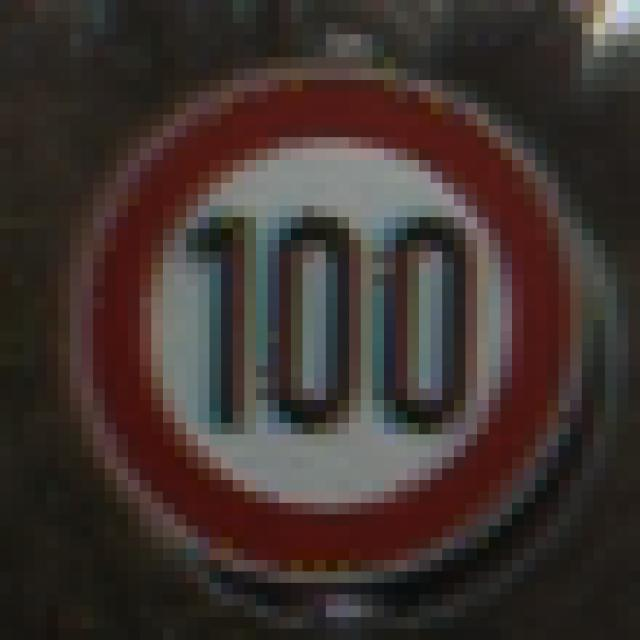Ograniczenie predkosci do 100: (86, 76, 571, 574)
